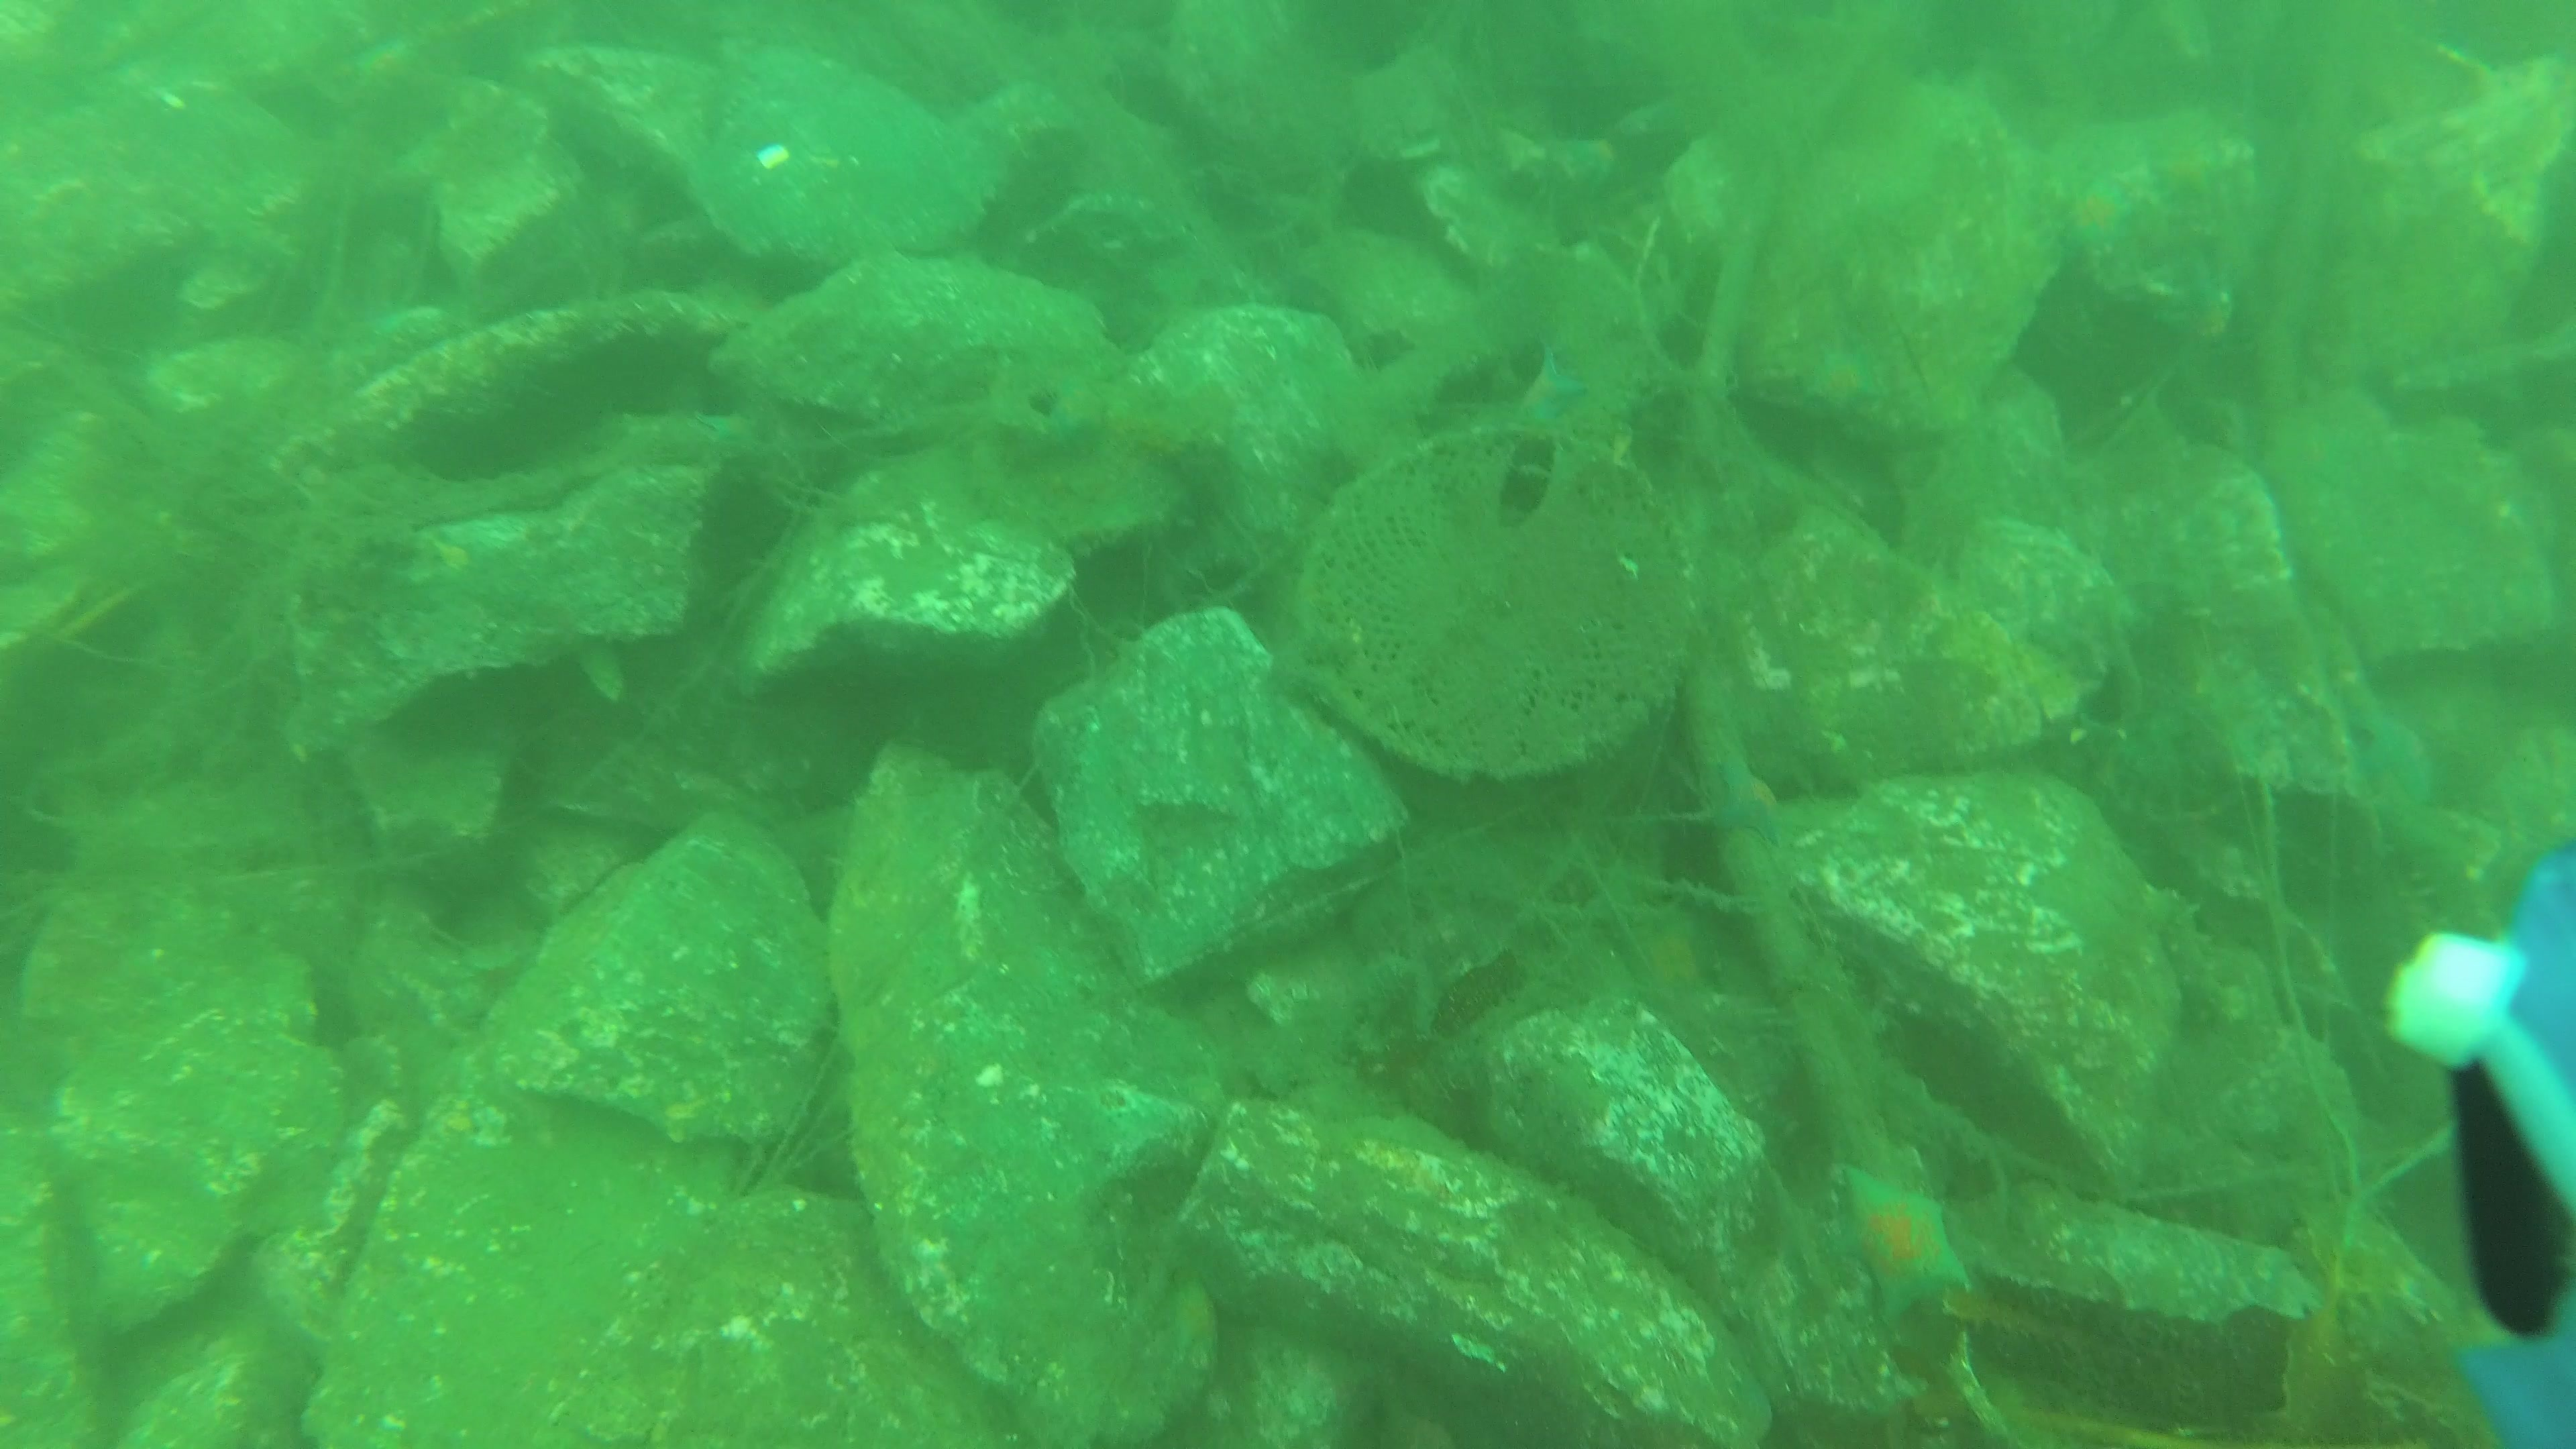holothurian: (2387, 803, 2500, 947)
starfish: (1821, 1162, 1980, 1341), (2334, 695, 2443, 814), (2047, 161, 2141, 269), (1790, 336, 1893, 428), (1511, 340, 1596, 446)
